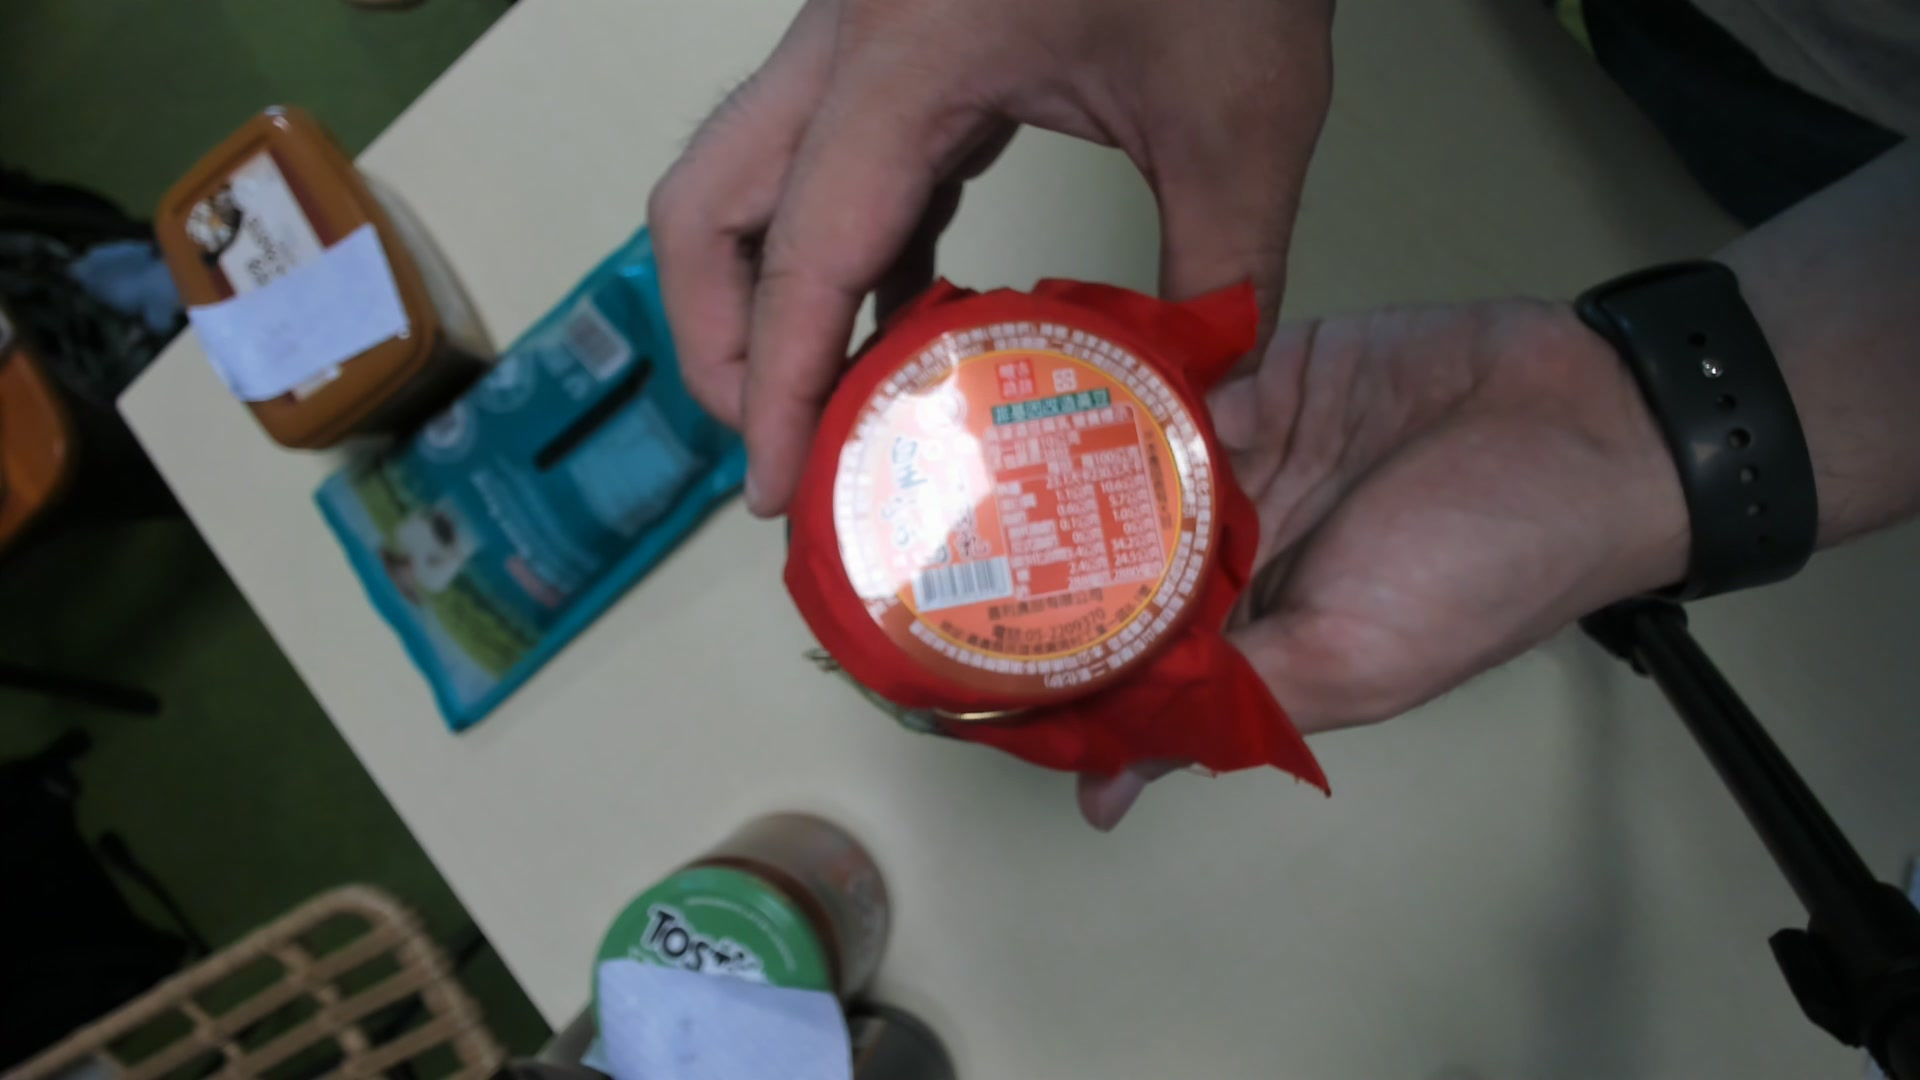OtherSauceDressing_300-399g_NonHalal_NonHealthy: (793, 274, 1321, 789)
